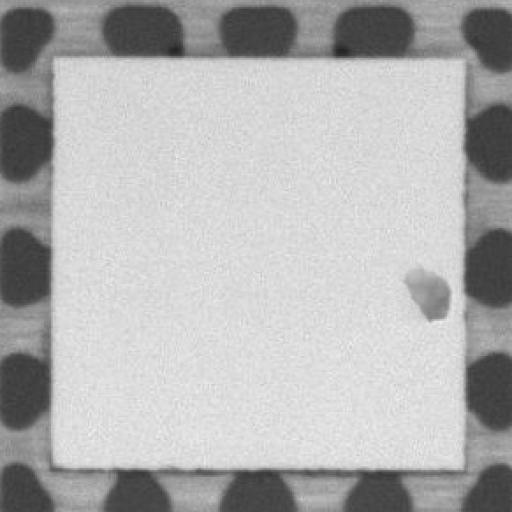DIE_INK: (398, 261, 450, 321)
